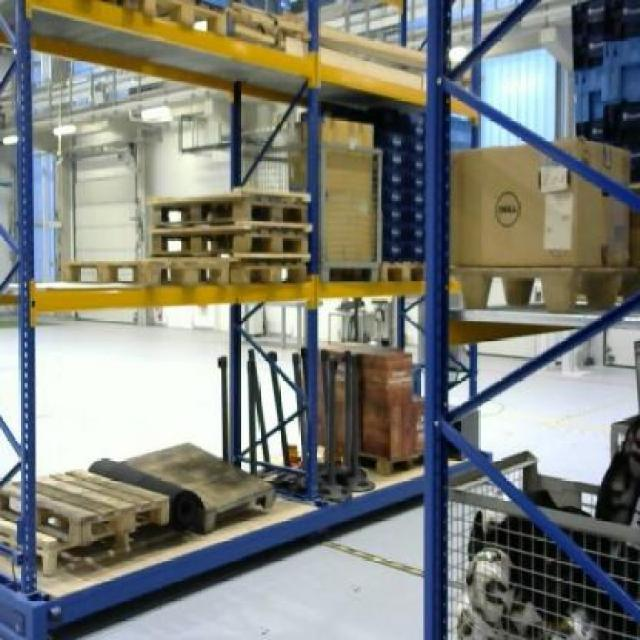box: (448, 138, 630, 267), (319, 114, 373, 262)
